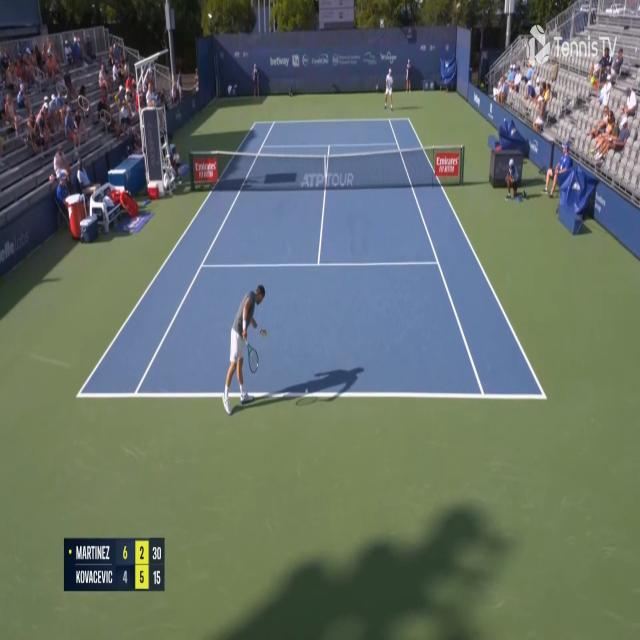tennis-player: (221, 278, 272, 418), (383, 68, 394, 110)
